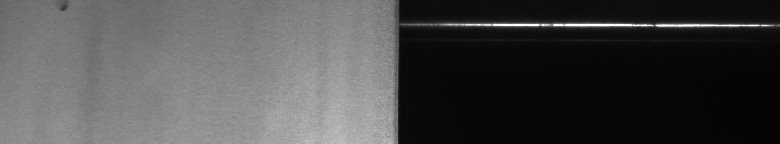fi: (56, 4, 72, 20)
